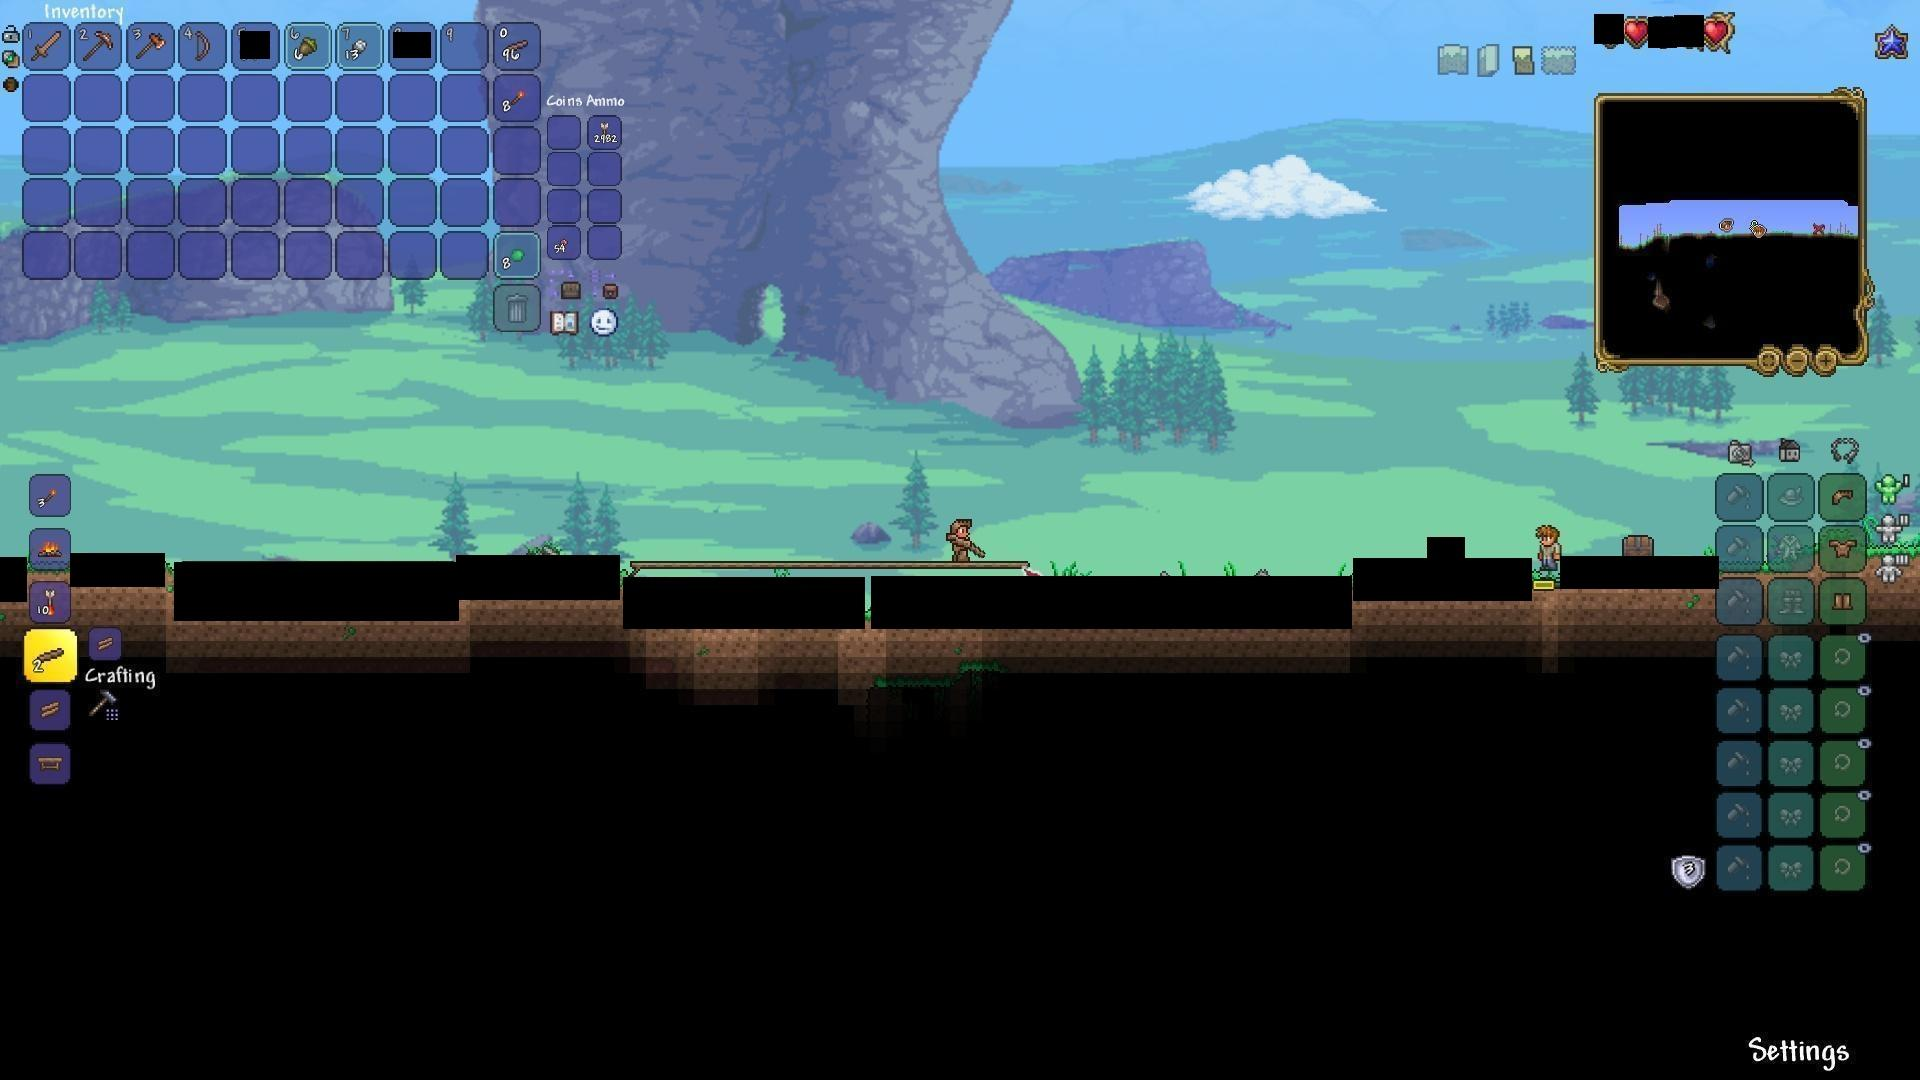breastplate: (1830, 537, 1859, 558)
heart: (1704, 16, 1731, 47), (1625, 17, 1651, 46)
helmet: (1828, 484, 1858, 509)
legs: (1832, 588, 1857, 616)
wood: (36, 695, 65, 721), (92, 632, 117, 657)
workbench: (36, 752, 67, 775)
